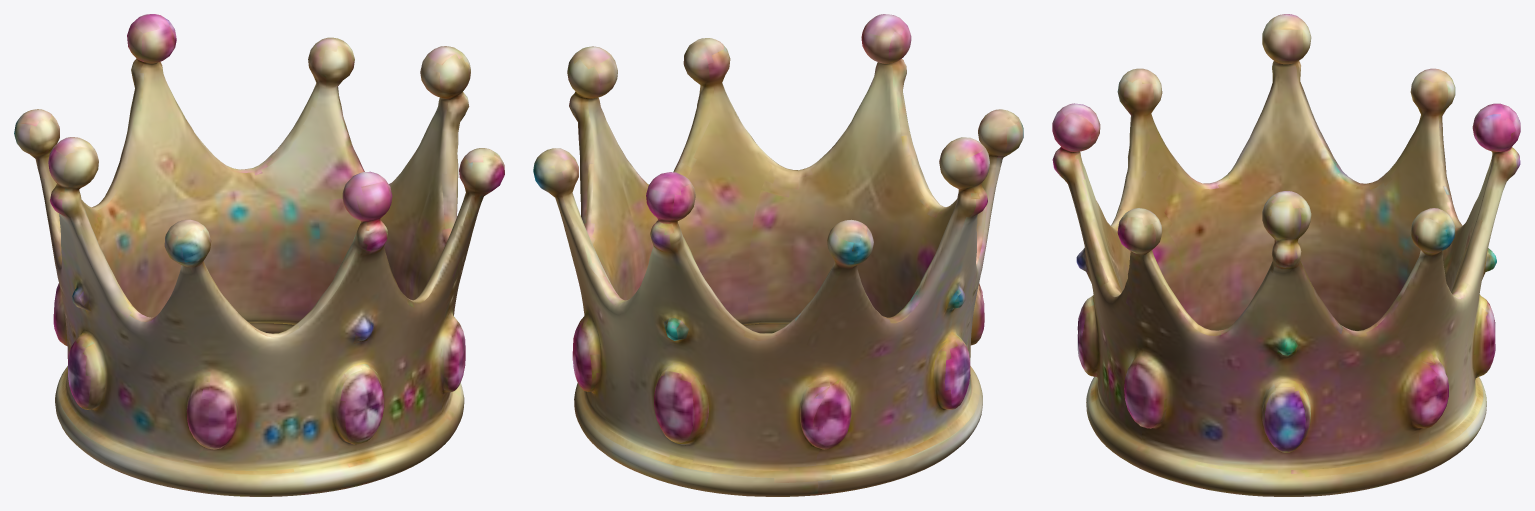
3 renders of one model, left to right at view 1: azimuth 30°, elevation 25°; view 2: azimuth 150°, elevation 25°; view 3: azimuth 270°, elevation 25°, orthographic. The views are drawn at different scales.
Size of the model in its own units: 1.99 by 1.47 by 1.99.
1 material, 1 textured.
